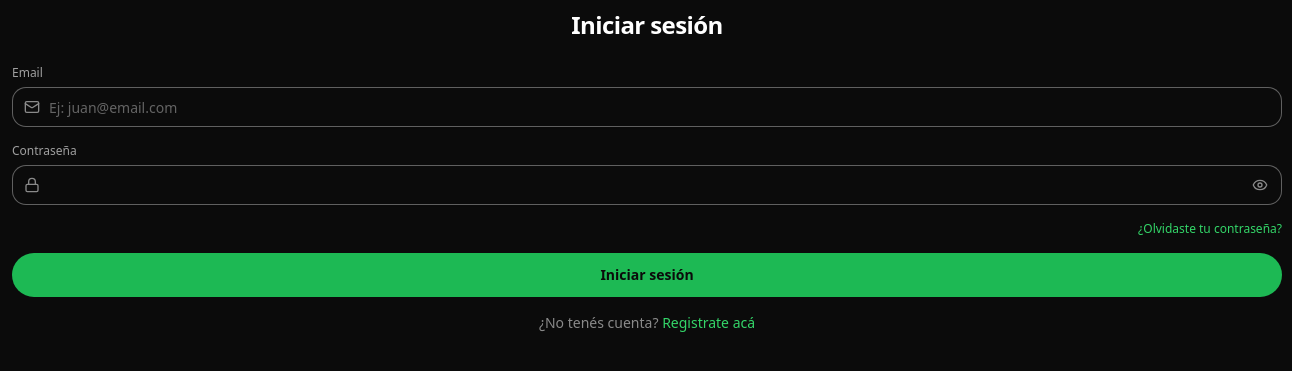
Test: LoginForm › shows validation error for empty password on submit
Type "test@example.com" into the field labelled "Email".
click(647, 107); type("test@example.com")  # box [12,87,1282,127]
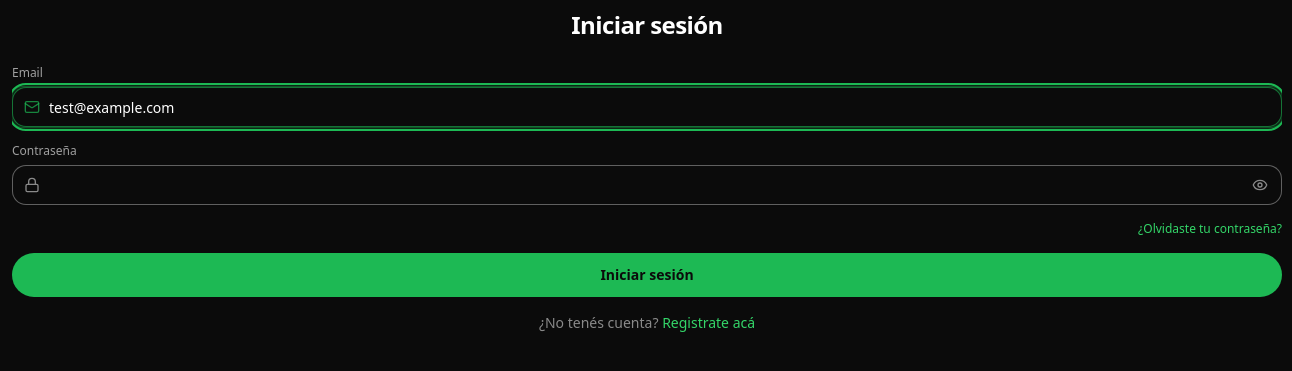
Click the button "Iniciar sesión".
click(647, 275)  # box [12,253,1282,297]
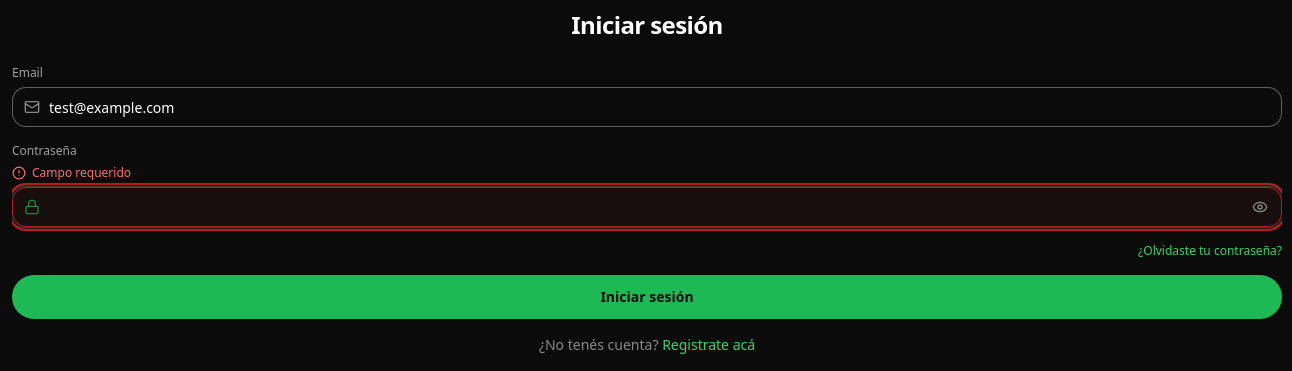
Check: the text "Campo requerido" is shown, box [12,164,131,181]
